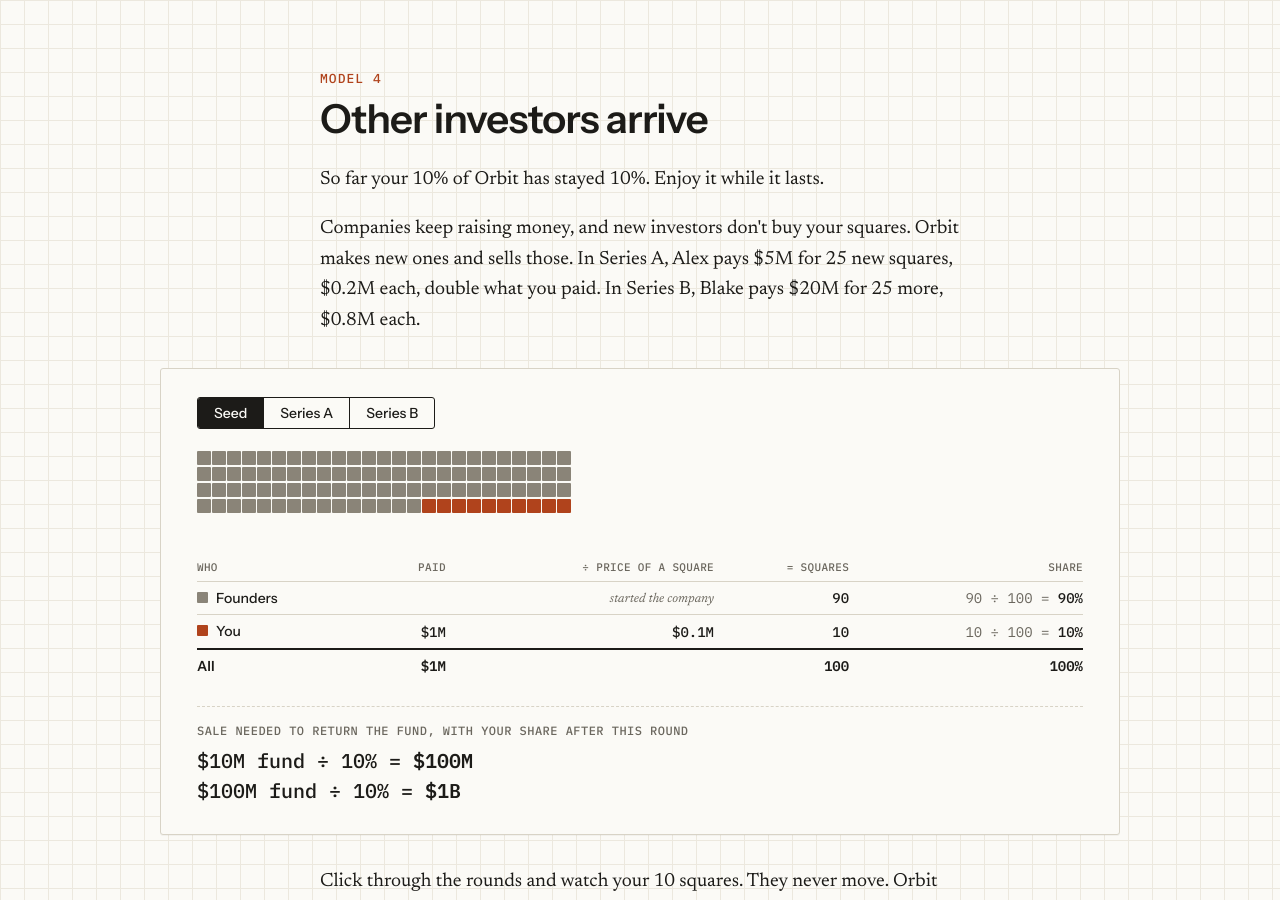
Model 4: other investors arrive › shows what every investor paid, at what price, for how many squares
Click the button "Series B" at (392, 413), box [349,398,434,428]
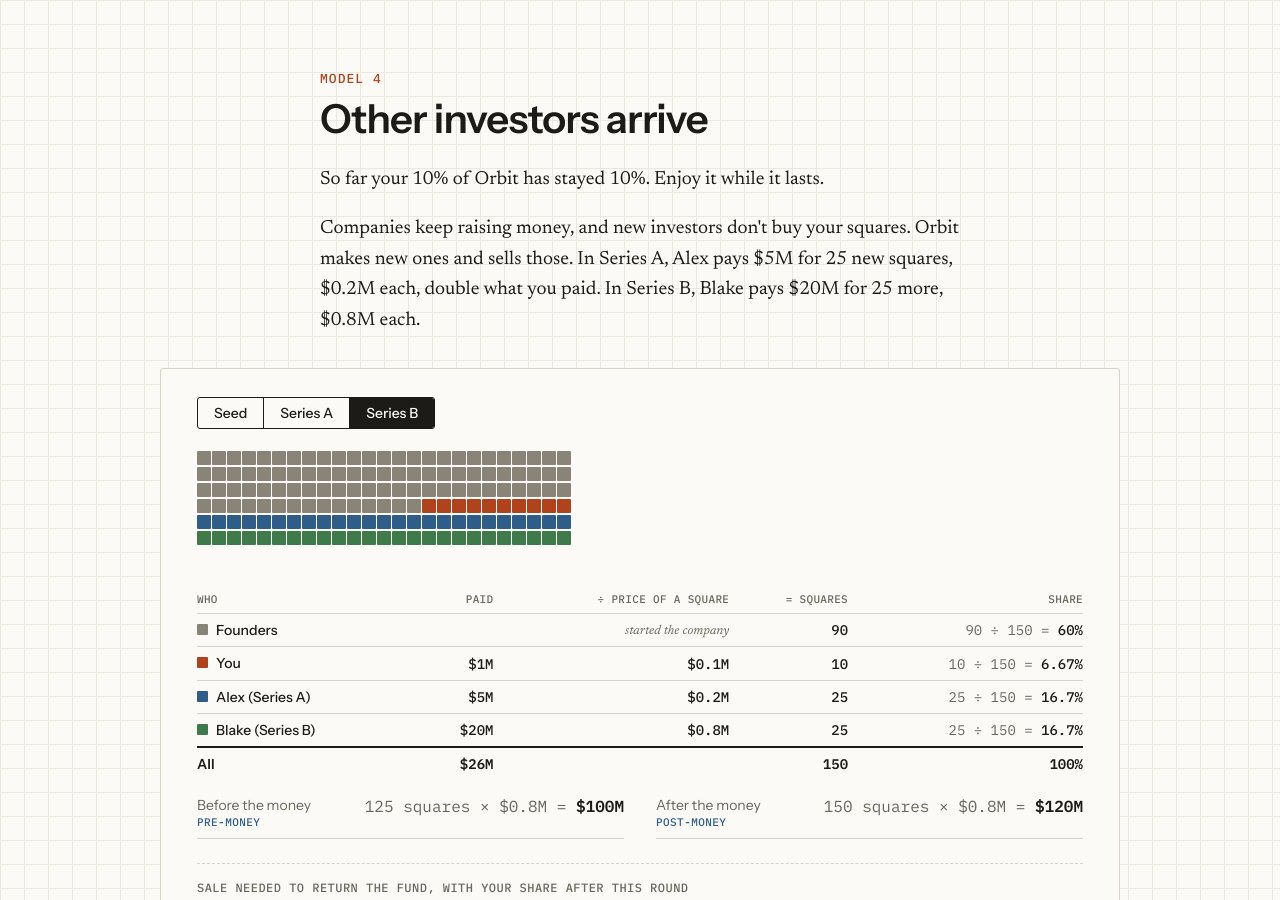
Now the cell with test id "cap-paid-a" reads "$5M", box [468,688,494,706]
Now the cell with test id "cap-price-a" reads "$0.2M", box [687,688,729,706]
Now the cell with test id "cap-paid-b" reads "$20M", box [460,721,494,739]
